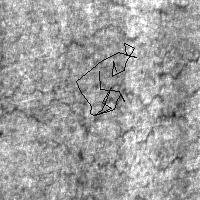crazing: (1, 81, 184, 160), (76, 43, 136, 115)
